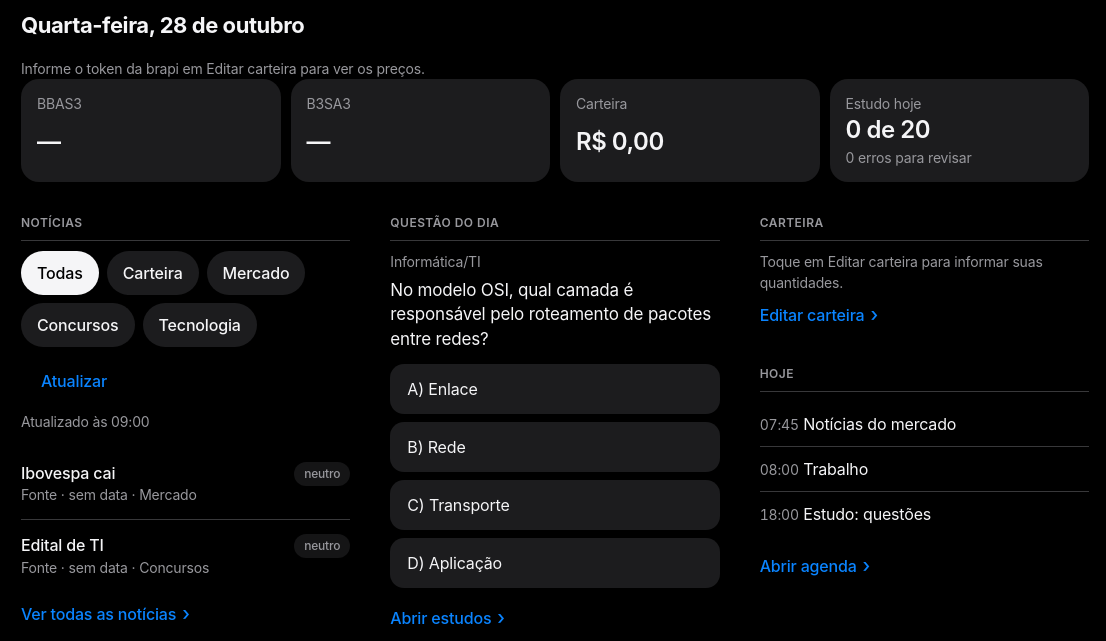
Test: Início mostra o feed de notícias com filtro por tema
Expected: the text "Ibovespa cai" is shown, x1=21 y1=463 x2=115 y2=483
Click the button "Concursos": (78, 325) x1=21 y1=303 x2=134 y2=347
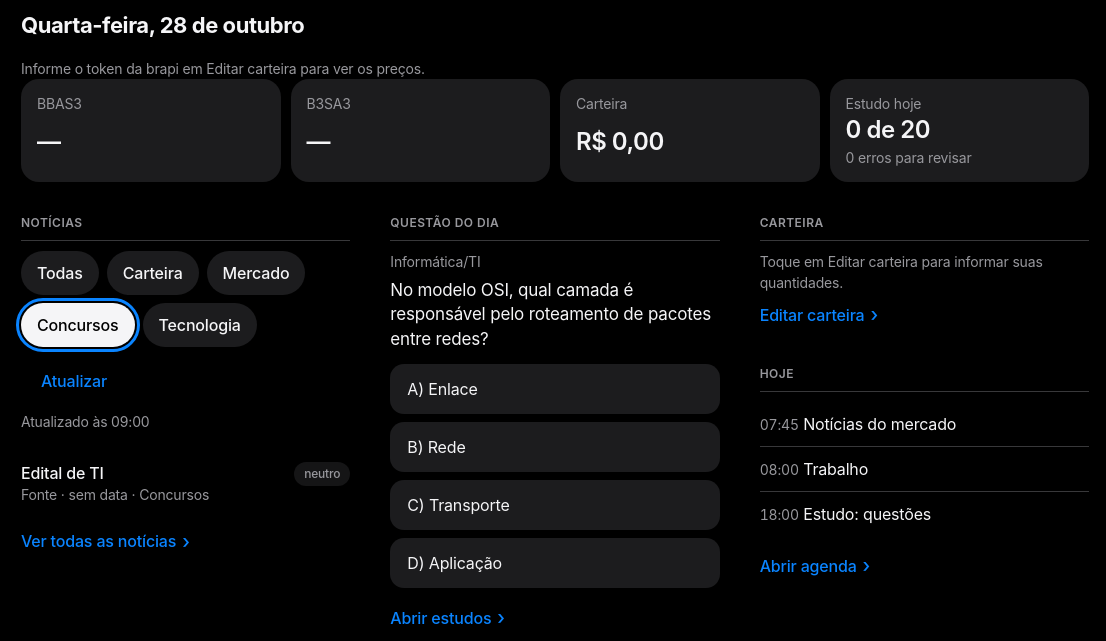
Expected: the text "Edital de TI" is shown, x1=21 y1=463 x2=104 y2=483
Now the text "Ibovespa cai" is gone
